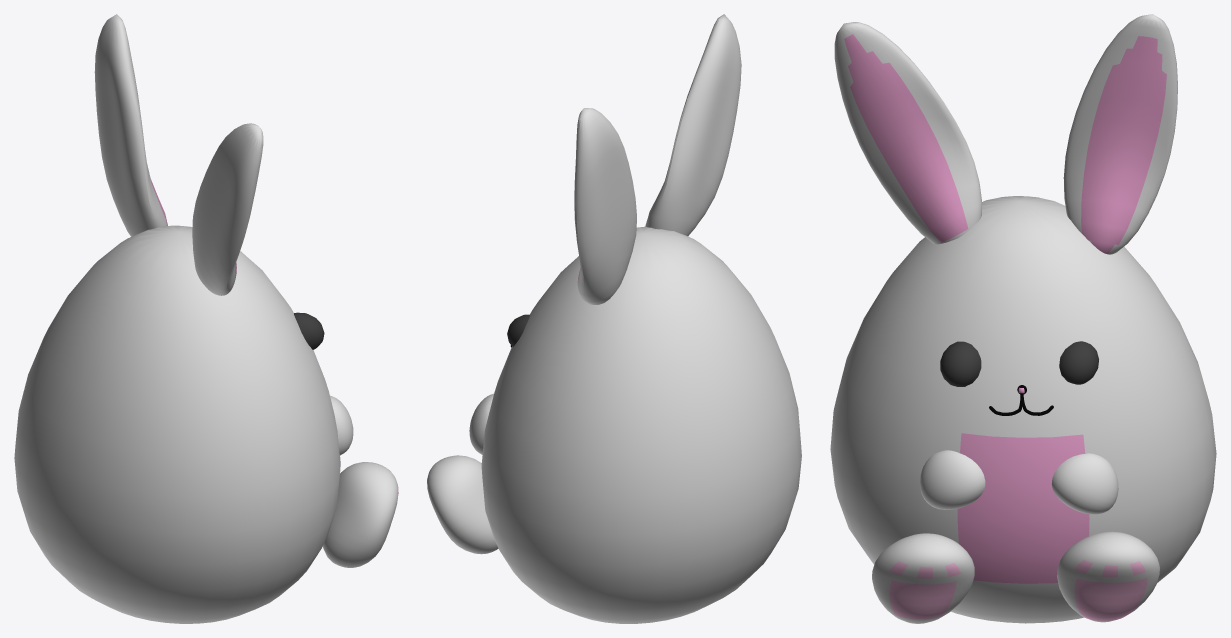
File: rabbit.glb
3 views of the same model, side by side, from view 1: azimuth 30°, elevation 25°; view 2: azimuth 150°, elevation 25°; view 3: azimuth 270°, elevation 25° (orthographic). The views are drawn at different scales.
Visible parts, largest first — view 1: Body, PawsLow, Eyes; view 2: Body, PawsLow; view 3: Body, PawsLow, Eyes.
Boxes of the visible parts, x1,y1,x2,y2 form: Body: (14,14,353,623); PawsLow: (323,462,398,567); Eyes: (294,312,324,349); Body: (469,14,801,623); PawsLow: (427,455,498,554); Body: (830,14,1216,623); PawsLow: (872,531,1159,623); Eyes: (940,341,1098,386).
Size of the model in its own units: 0.9303 by 1.58 by 0.9326.
